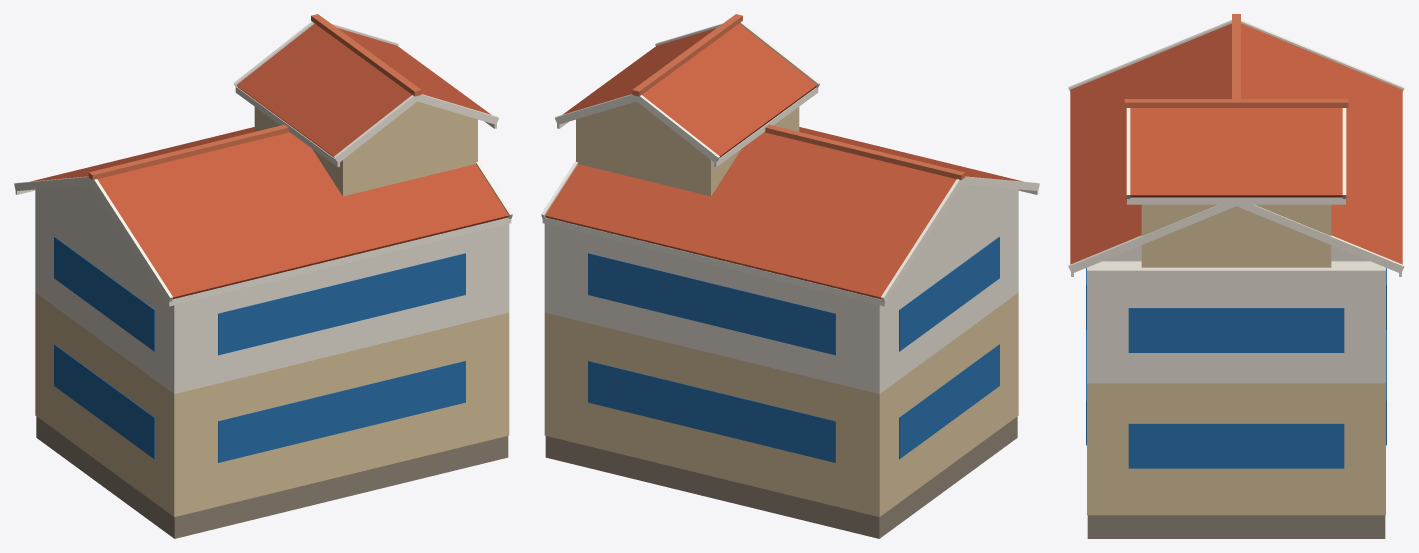
File: 01_casco_house-lod2.glb
3 views of the same model, side by side, from view 1: azimuth 30°, elevation 25°; view 2: azimuth 150°, elevation 25°; view 3: azimuth 270°, elevation 25° (orthographic). The views are drawn at different scales.
Parts seen in each view (by area): view 1: 01_casco_house_LOD2; view 2: 01_casco_house_LOD2; view 3: 01_casco_house_LOD2.
Part boxes in pixels (left/top/right/bottom): 01_casco_house_LOD2: left=14, top=14, right=512, bottom=538; 01_casco_house_LOD2: left=541, top=14, right=1039, bottom=538; 01_casco_house_LOD2: left=1068, top=14, right=1404, bottom=538.
Bounding box in the file's own units: 12.17 × 12.09 × 9.21.
Materials: 2 (2 with a texture image).
